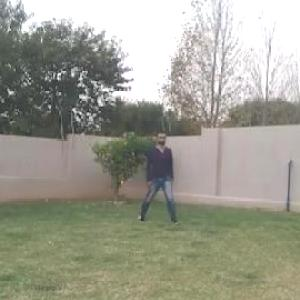follow: (149, 126, 172, 220)
